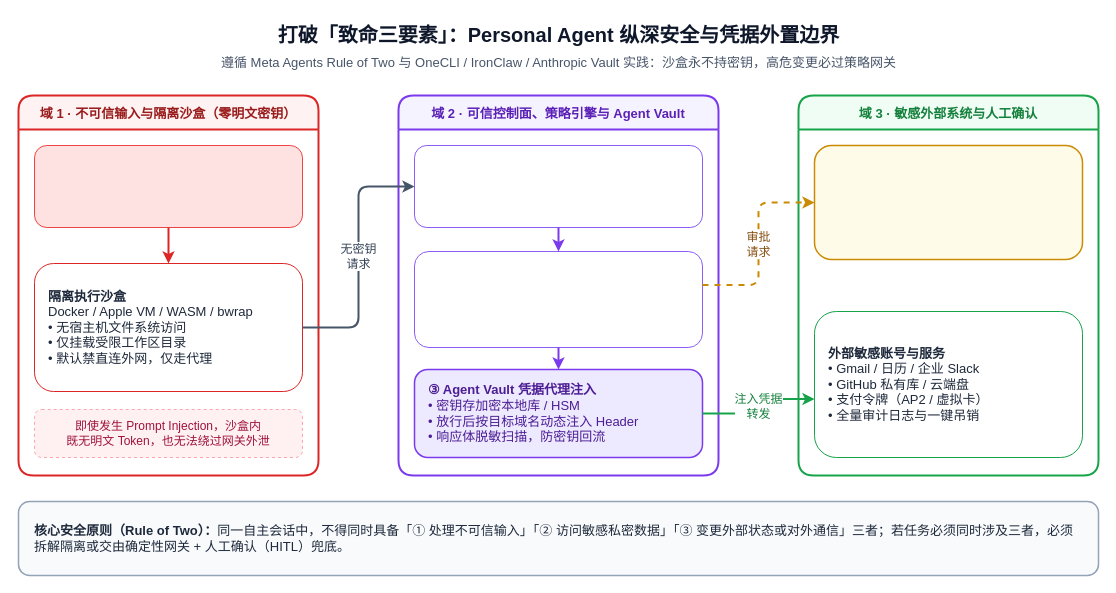
Some shapes in this 1116 by 593 pixel diagram are drawn without their labels. Here are the shapes that lost their labels. From the top down, the centre of each, then its label:
At point (168, 186): "不可信外部内容源 网页 / 第三方邮件 / 公开 Issue / PDF （可能暗藏间接提示注入 IPI）".
At point (558, 186): "① 信息流与 Skill 冲突守卫 • 检查跨 Skill 数据流与授权上下文 • 拦截未授权状态修改（防 CoSA）".
At point (948, 202): "用户确认通道（HITL） 手机推送 / IM 卡片二次确认 • 支付下单（带硬性额度上限） • 群发邮件 / 删库 / 外发文件".
At point (558, 299): "② 确定性策略与限流引擎 • Host / Path 白名单校验 • 频控与预算上限（如每小时删信 ≤ 3） • 不可逆动作触发人工审批（HITL）".
